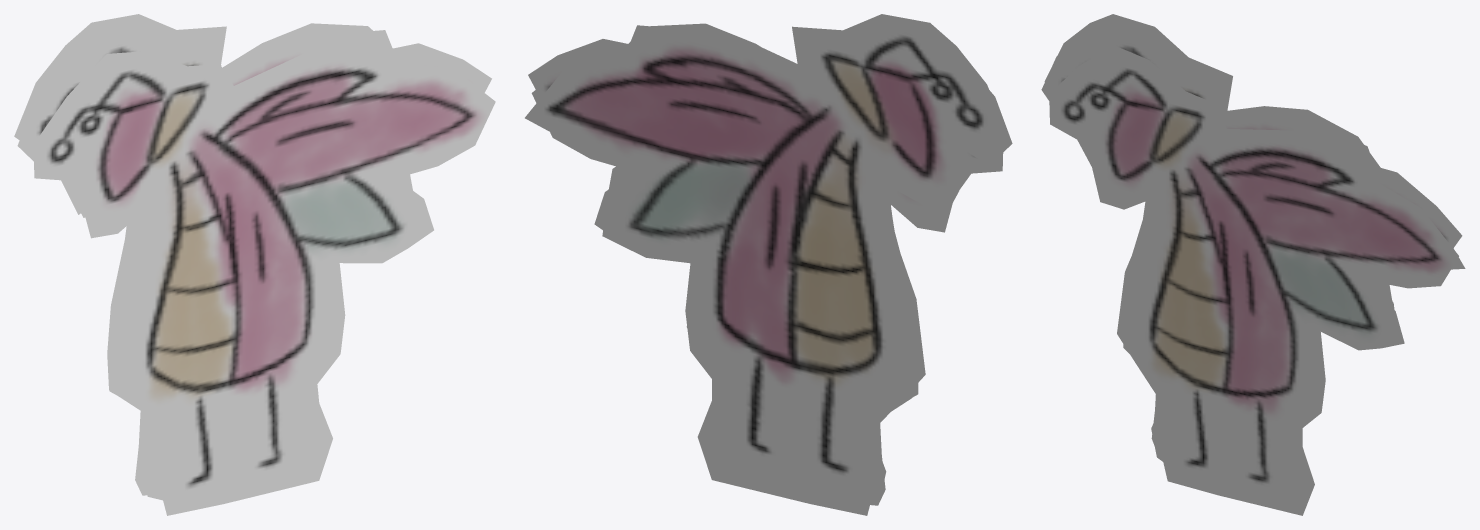
File: RoachIdle.fbx
3 renders of one model, left to right at view 1: azimuth 30°, elevation 25°; view 2: azimuth 150°, elevation 25°; view 3: azimuth 330°, elevation 25°, orthographic. The views are drawn at different scales.
Parts seen in each view (by area): view 1: RoachIdle3, RoachIdle2, RoachIdle1; view 2: RoachIdle1, RoachIdle3, RoachIdle2; view 3: RoachIdle3, RoachIdle2, RoachIdle1.
Part boxes in pixels (<box>): RoachIdle3: <box>33,38,495,515</box>; RoachIdle2: <box>17,24,491,500</box>; RoachIdle1: <box>14,14,372,495</box>; RoachIdle1: <box>525,14,1008,505</box>; RoachIdle3: <box>531,90,1003,515</box>; RoachIdle2: <box>528,25,1012,507</box>; RoachIdle3: <box>1049,45,1458,515</box>; RoachIdle2: <box>1041,24,1462,461</box>; RoachIdle1: <box>1044,14,1465,445</box>.
Bounding box in the file's own units: 115 × 117 × 2.94.
Materials: 1 (1 with a texture image).
